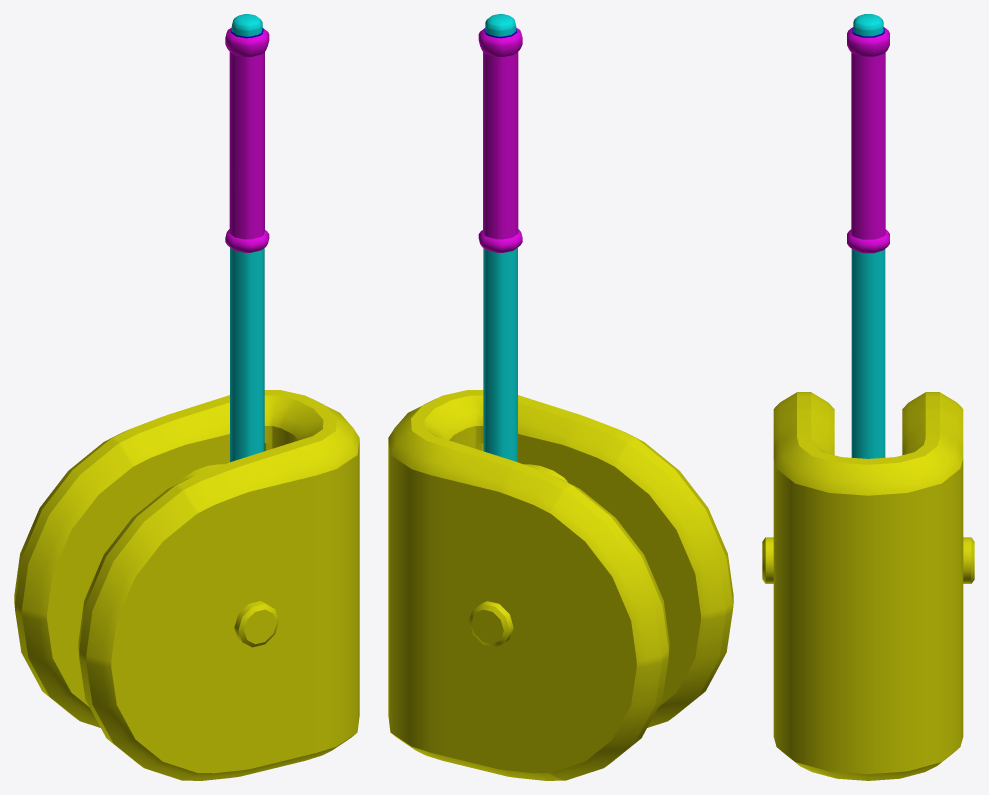
File: Palanca.fbx
The picture shows the model from 3 angles, left to right: view 1: azimuth 30°, elevation 25°; view 2: azimuth 150°, elevation 25°; view 3: azimuth 270°, elevation 25°; orthographic projection.
Parts seen in each view (by area): view 1: polySurface3; view 2: polySurface3; view 3: polySurface3.
Part boxes in pixels (left/top/right/bottom): polySurface3: left=14, top=14, right=359, bottom=780; polySurface3: left=388, top=14, right=733, bottom=780; polySurface3: left=762, top=14, right=974, bottom=780.
Bounding box in the file's own units: 3.31 × 7.74 × 2.06.
